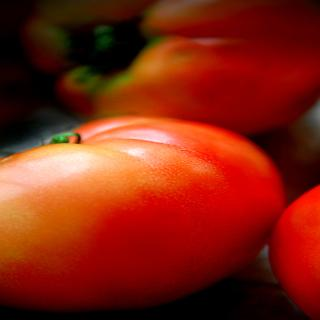tomato: (16, 106, 289, 318), (14, 0, 318, 136), (268, 182, 318, 318)
